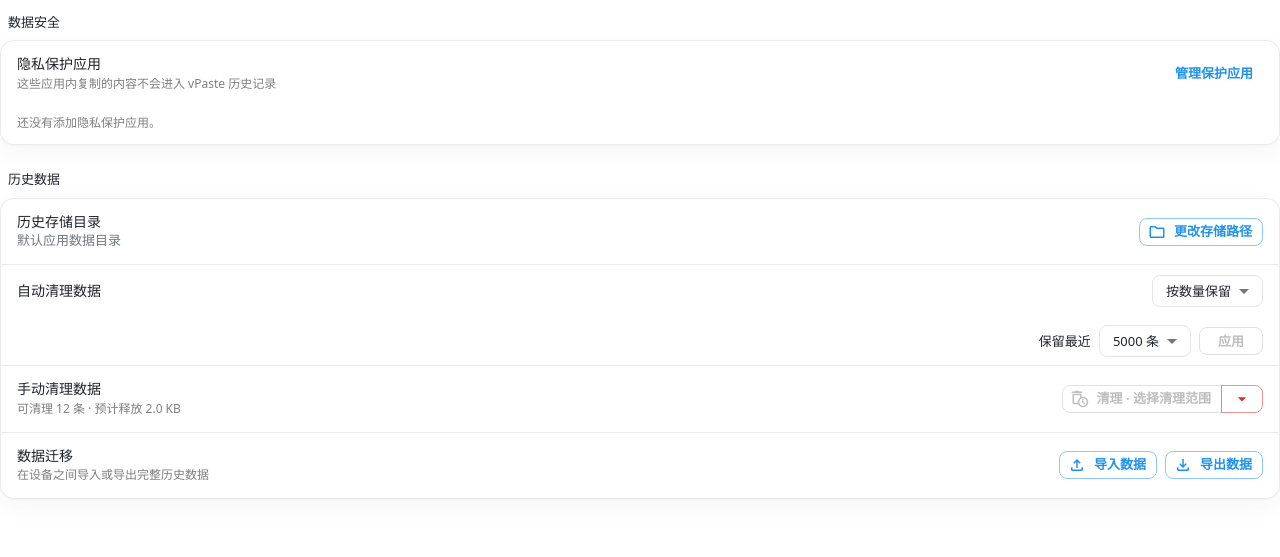
Scenario: Automatic history cleanup › keeps a failed save visible and restores the active rule if disabling fails
The width and height of the screenshot is (1280, 557).
Click the dropdown named "自动清理数据" at (1198, 291), box [1166,282,1231,300]
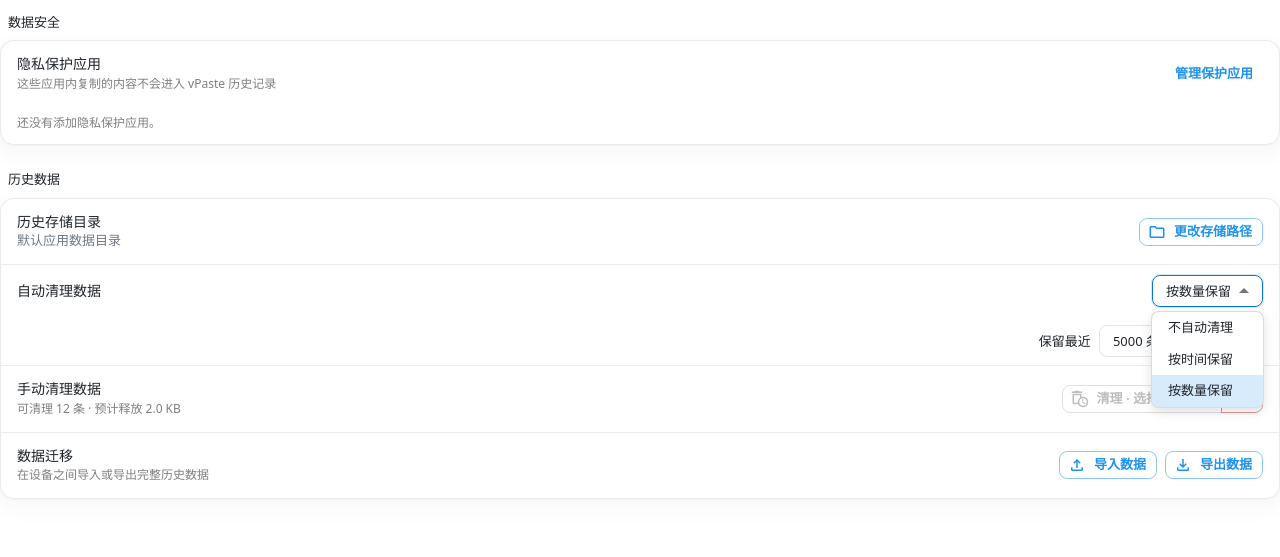
Click the option "不自动清理" at (1200, 327), box [1168,318,1233,336]
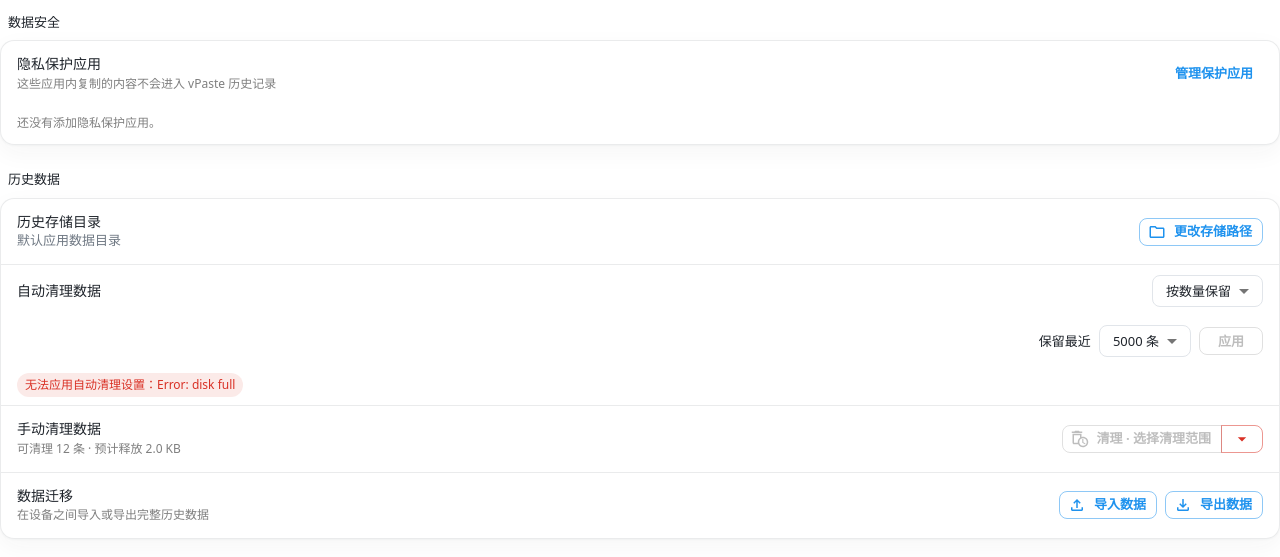
Expected: the dropdown named "自动清理数据" reads "按数量保留", [1166,282,1231,300]
Expected: the text "无法应用自动清理设置：Error: disk full" is shown, [25,378,235,394]
